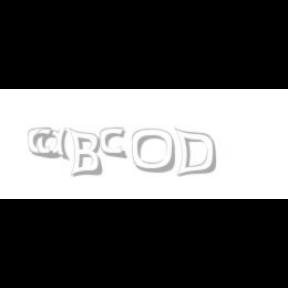B: (68, 128, 102, 178)
D: (174, 128, 216, 178)
O: (132, 128, 176, 174)
a: (36, 128, 74, 160)
c: (28, 128, 57, 160), (100, 128, 128, 160)
